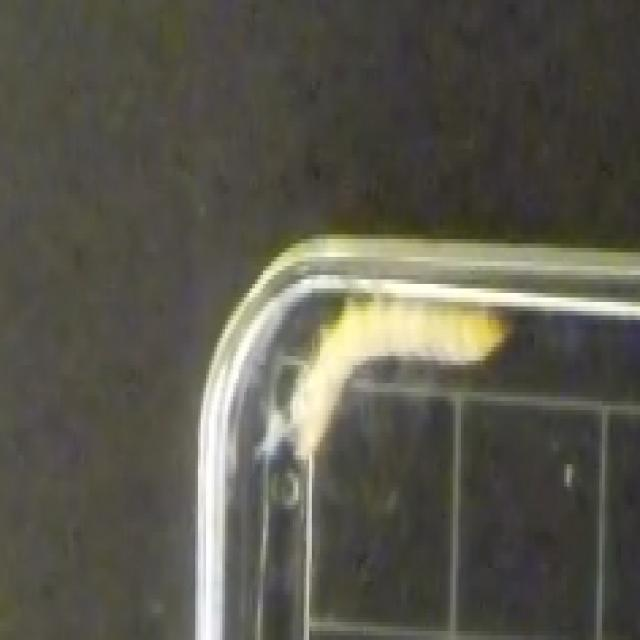larva: (293, 307, 517, 457)
